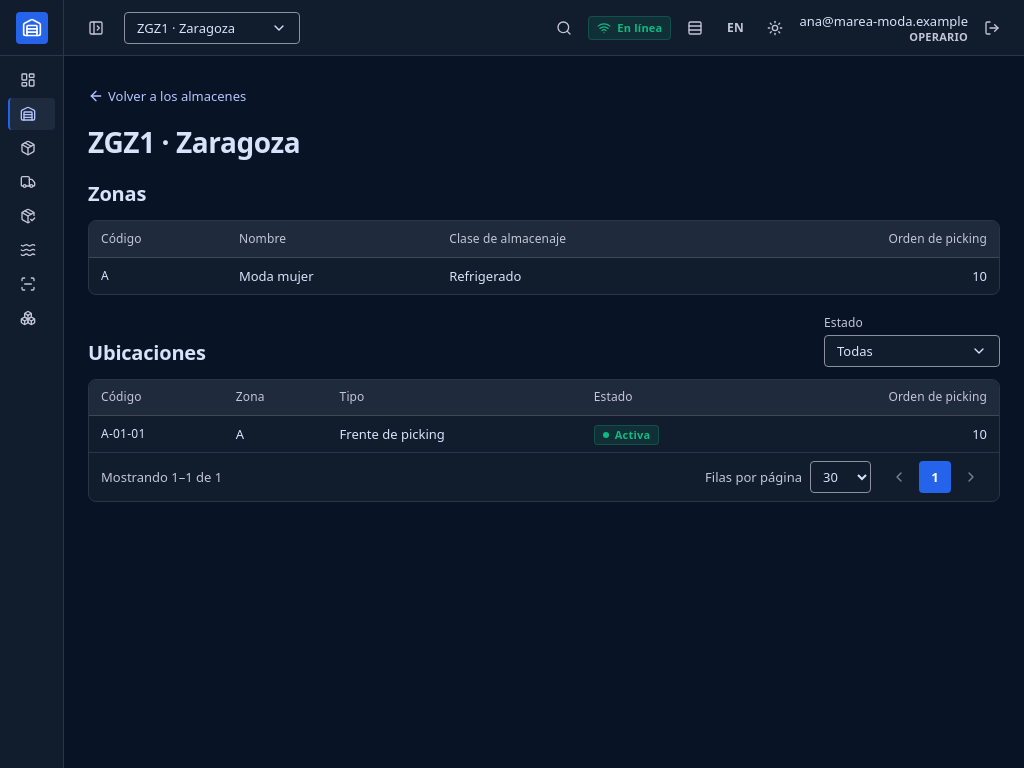
Test: one warehouse › asks for the status the person filters by
The width and height of the screenshot is (1024, 768).
Expected: the text "A-01-01" is shown, [89,416,224,452]
Click the dropdown named "Estado" at coordinates (912, 350), box [824,334,1000,366]
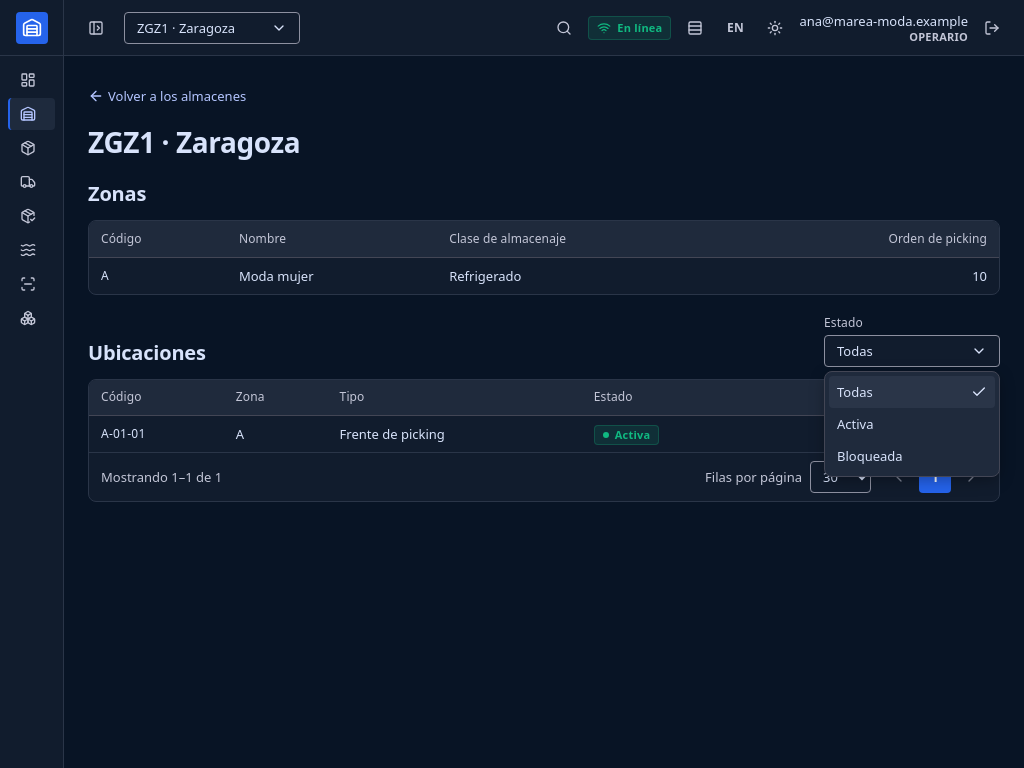
Click the option "Bloqueada" at coordinates (870, 456), box [837,447,903,465]
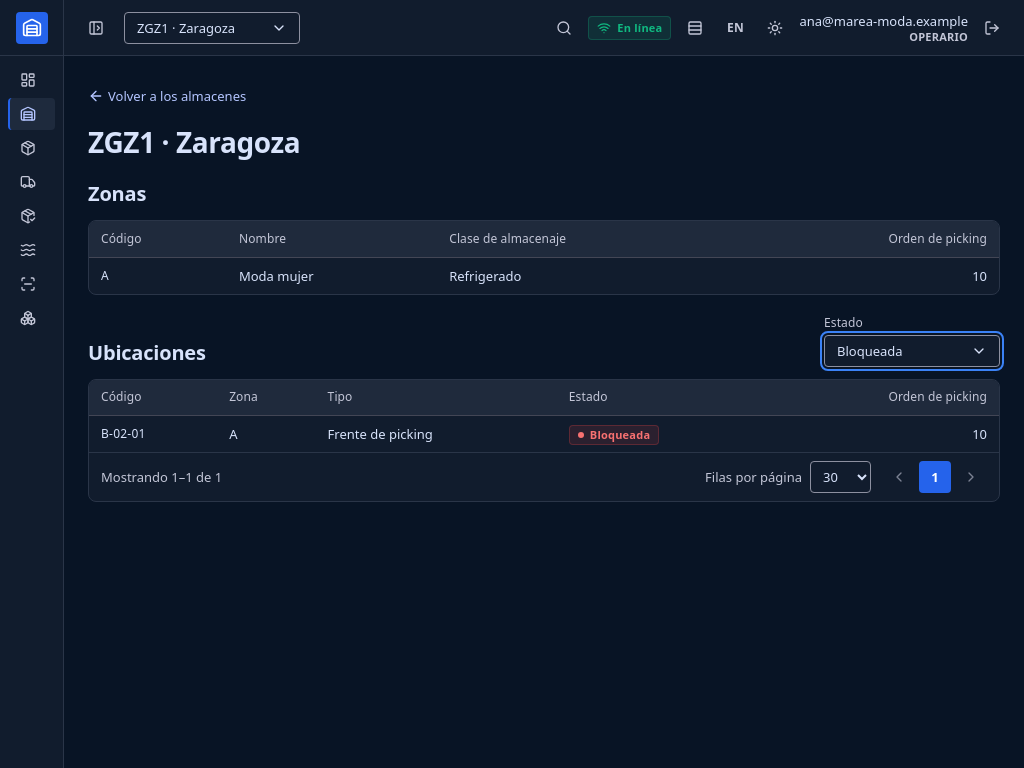
Expected: the text "B-02-01" is shown, [89,416,217,452]
